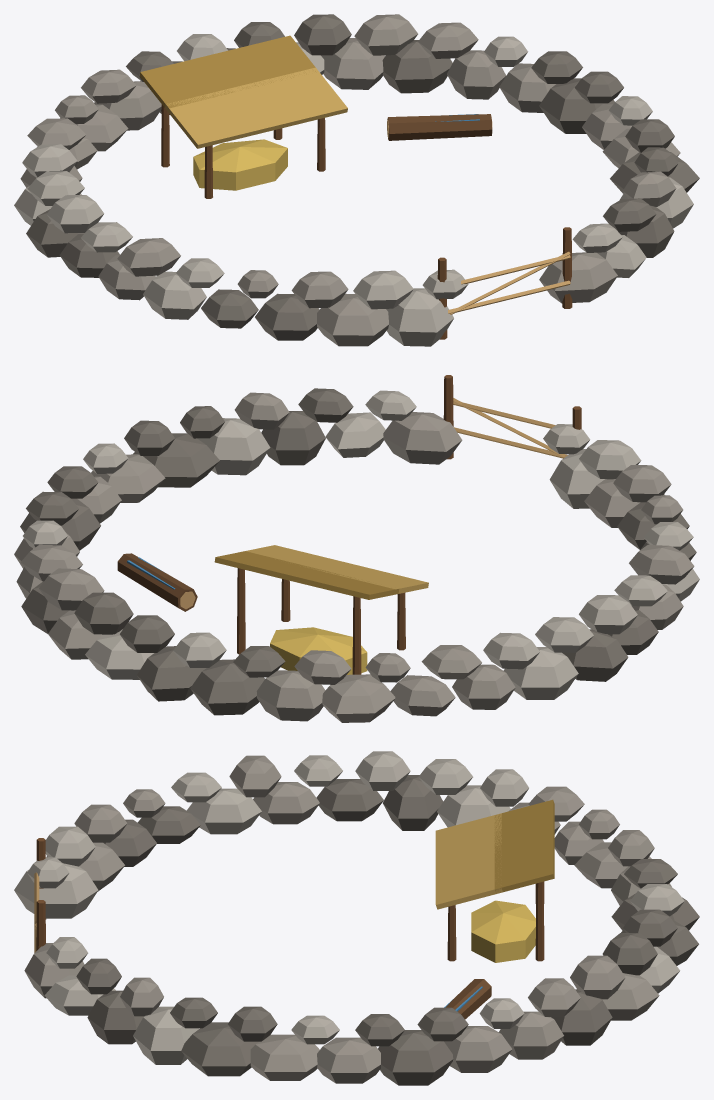
The model's file is sheepfold.glb.
3 views of the same model, one above another, from view 1: azimuth 30°, elevation 25°; view 2: azimuth 150°, elevation 25°; view 3: azimuth 270°, elevation 25° (orthographic). The views are drawn at different scales.
Parts seen in each view (by area): view 1: farm_sheepfold_empty; view 2: farm_sheepfold_empty; view 3: farm_sheepfold_empty.
Boxes of the visible parts, x1,y1,x2,y2 form: farm_sheepfold_empty: (14, 14, 699, 346); farm_sheepfold_empty: (14, 375, 699, 722); farm_sheepfold_empty: (14, 751, 699, 1085).
Bounding box in the file's own units: 9.2 × 1.71 × 9.35.
